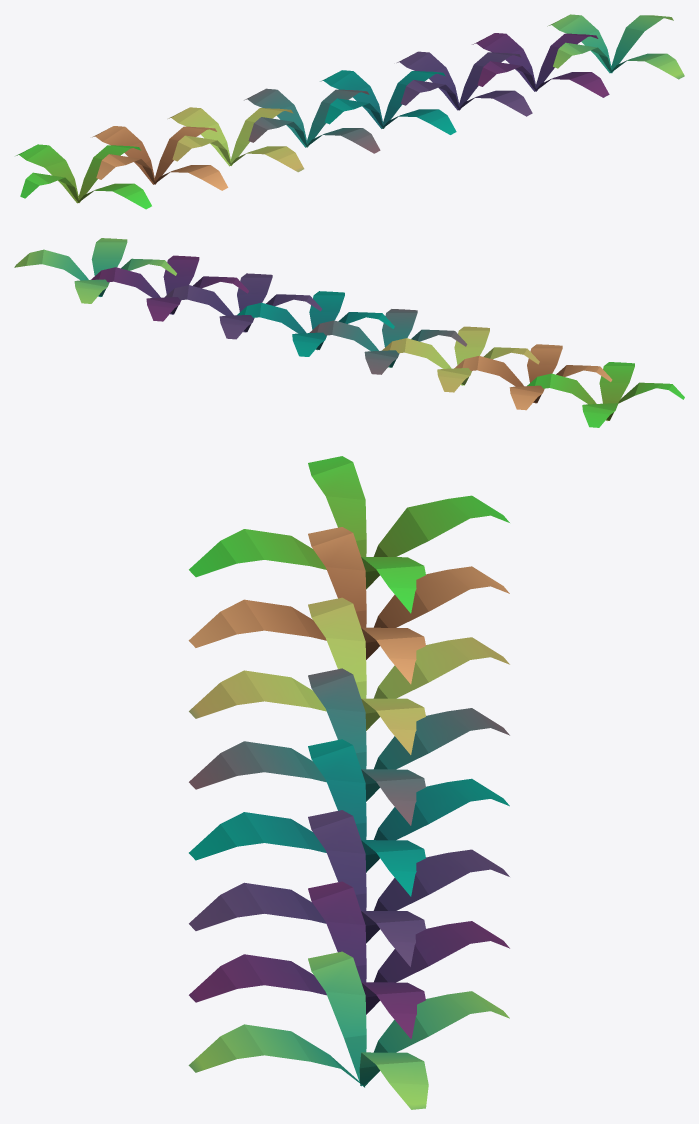
The model's file is Grass.fbx.
The picture shows the model from 3 angles, top to bottom: view 1: azimuth 30°, elevation 25°; view 2: azimuth 150°, elevation 25°; view 3: azimuth 270°, elevation 25°; orthographic projection. The views are drawn at different scales.
Parts seen in each view (by area): view 1: Plane_003, Plane_007, Plane_004, Plane_005, Plane_006, Plane_001, Plane_000, Plane_002; view 2: Plane_007, Plane_003, Plane_001, Plane_000, Plane_005, Plane_006, Plane_004, Plane_002; view 3: Plane_003, Plane_007, Plane_001, Plane_000, Plane_005, Plane_002, Plane_006, Plane_004.
Part boxes in pixels (x1,y1,x2,y2): Plane_003: (547,14,684,79); Plane_007: (16,144,151,209); Plane_004: (397,51,532,116); Plane_005: (168,107,304,172); Plane_006: (92,126,228,190); Plane_001: (472,33,609,97); Plane_000: (244,88,380,153); Plane_002: (320,70,456,134); Plane_007: (527,362,684,427); Plane_003: (14,238,176,303); Plane_001: (91,255,248,321); Plane_000: (309,309,467,374); Plane_005: (382,326,539,392); Plane_006: (454,344,612,410); Plane_004: (165,273,321,339); Plane_002: (237,291,394,356); Plane_003: (188,951,509,1109); Plane_007: (189,456,509,613); Plane_001: (189,881,509,1039); Plane_000: (189,668,509,825); Plane_005: (189,597,509,754); Plane_002: (189,739,509,896); Plane_006: (188,527,509,684); Plane_004: (189,810,509,966).
Bounding box in the file's own units: 17.8 × 1.1 × 3.84.
